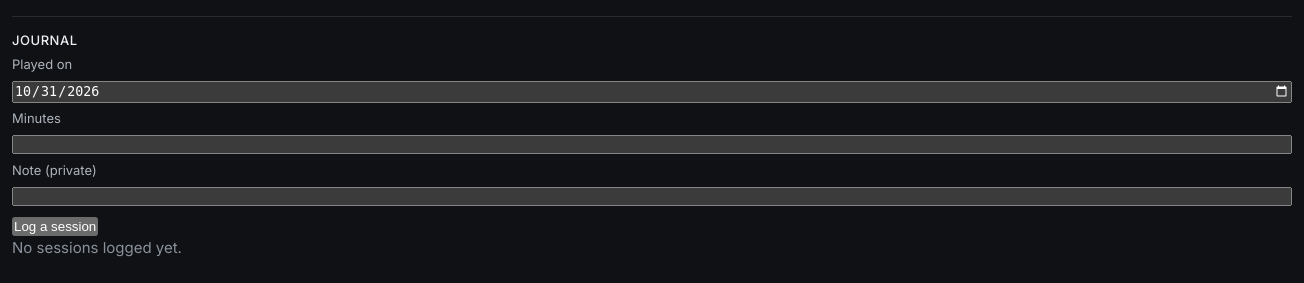
Test case: PlayJournal › logs a session with the minutes and note typed
Check: the text "No sessions logged yet." is shown, box [12, 238, 182, 257]
In the number field labelled "Minutes": (652, 145) [12, 135, 1292, 154], type "45"
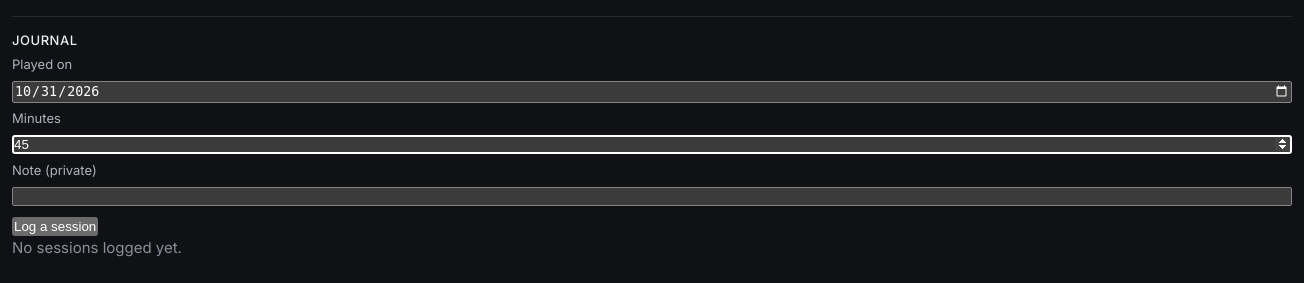
In the field labelled "Note (private)": (652, 196) [12, 187, 1292, 206], type "chapter 2"
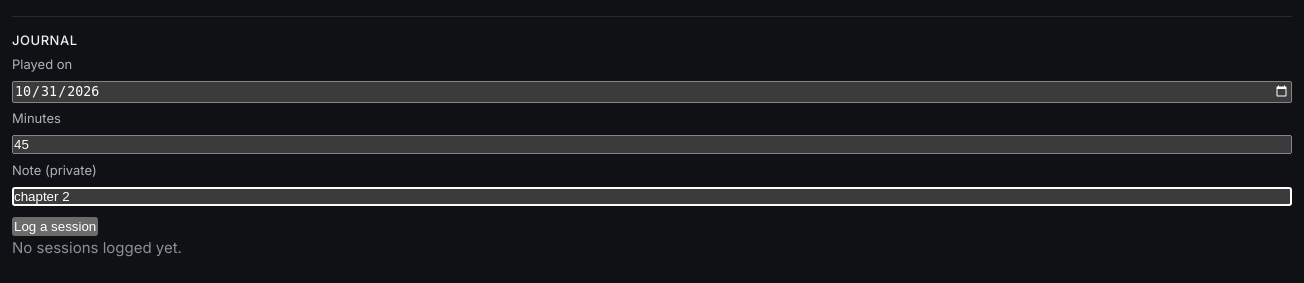
Click the button "Log a session": (55, 226) [12, 217, 98, 236]
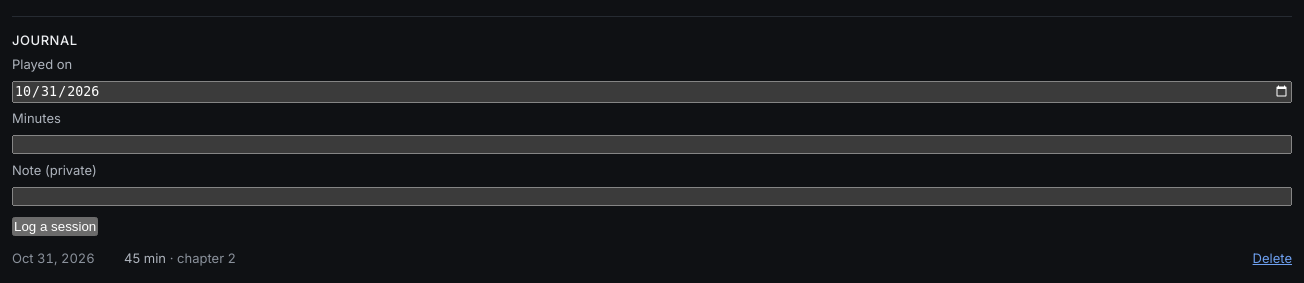
Check: the number field labelled "Minutes" is not empty, box [12, 135, 1292, 154]
